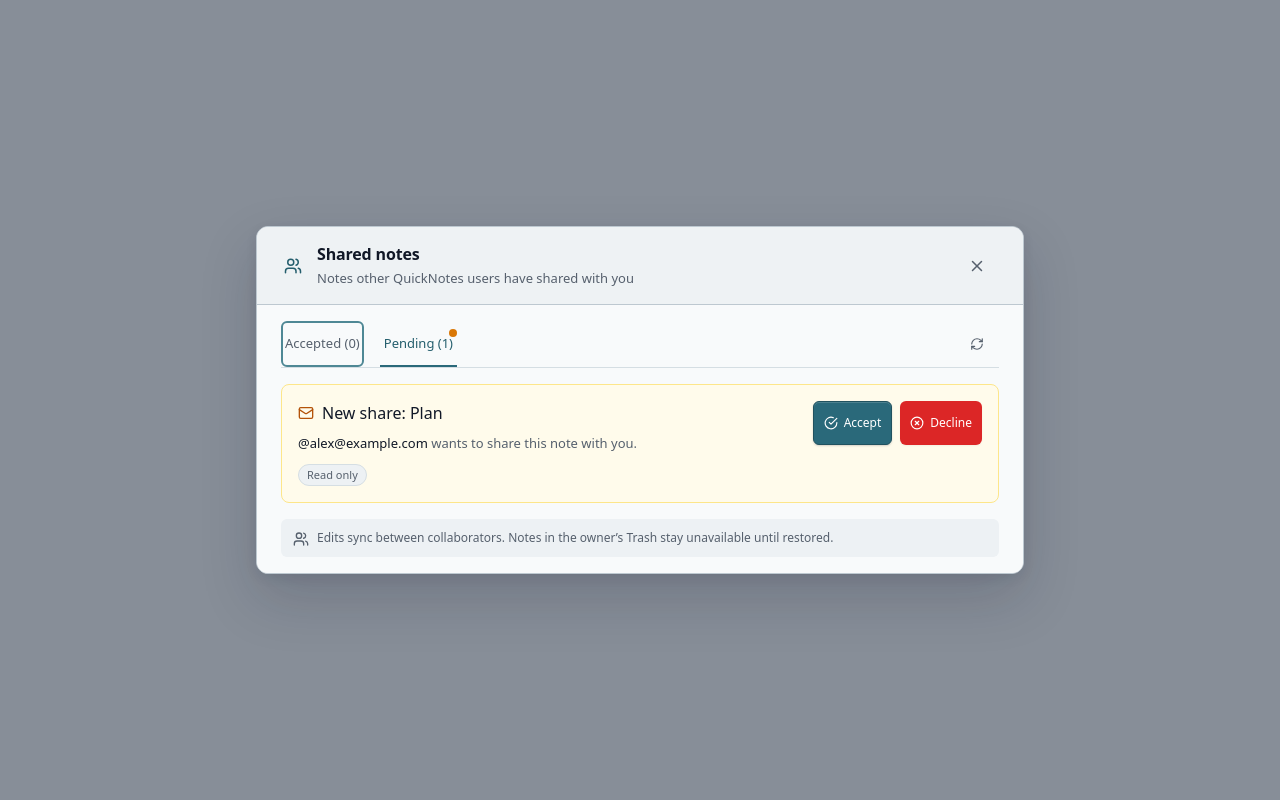
Test: shared notes › keeps the decline confirmation open when the server rejects it
Click the tab "Pending (1)": click(418, 344) [380,321,457,367]
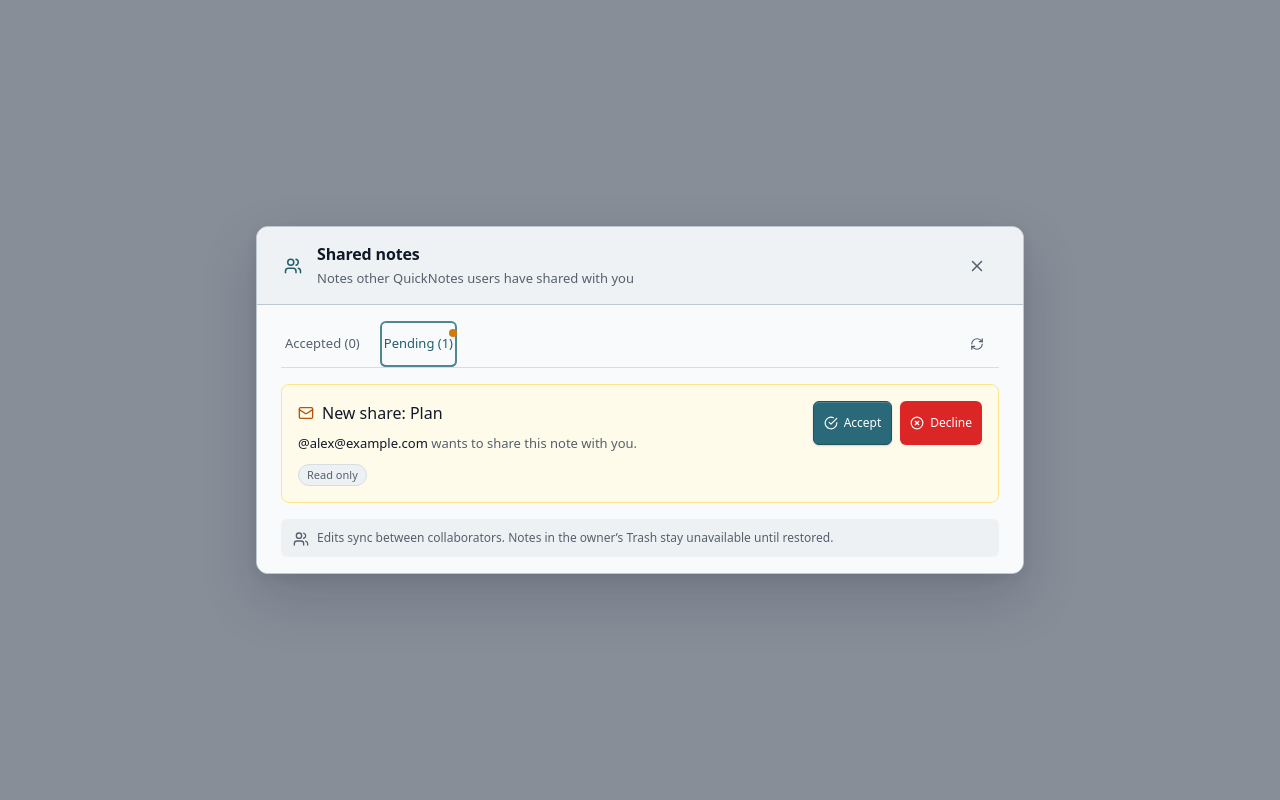
Click the button "Decline": click(941, 423) [900,401,982,445]
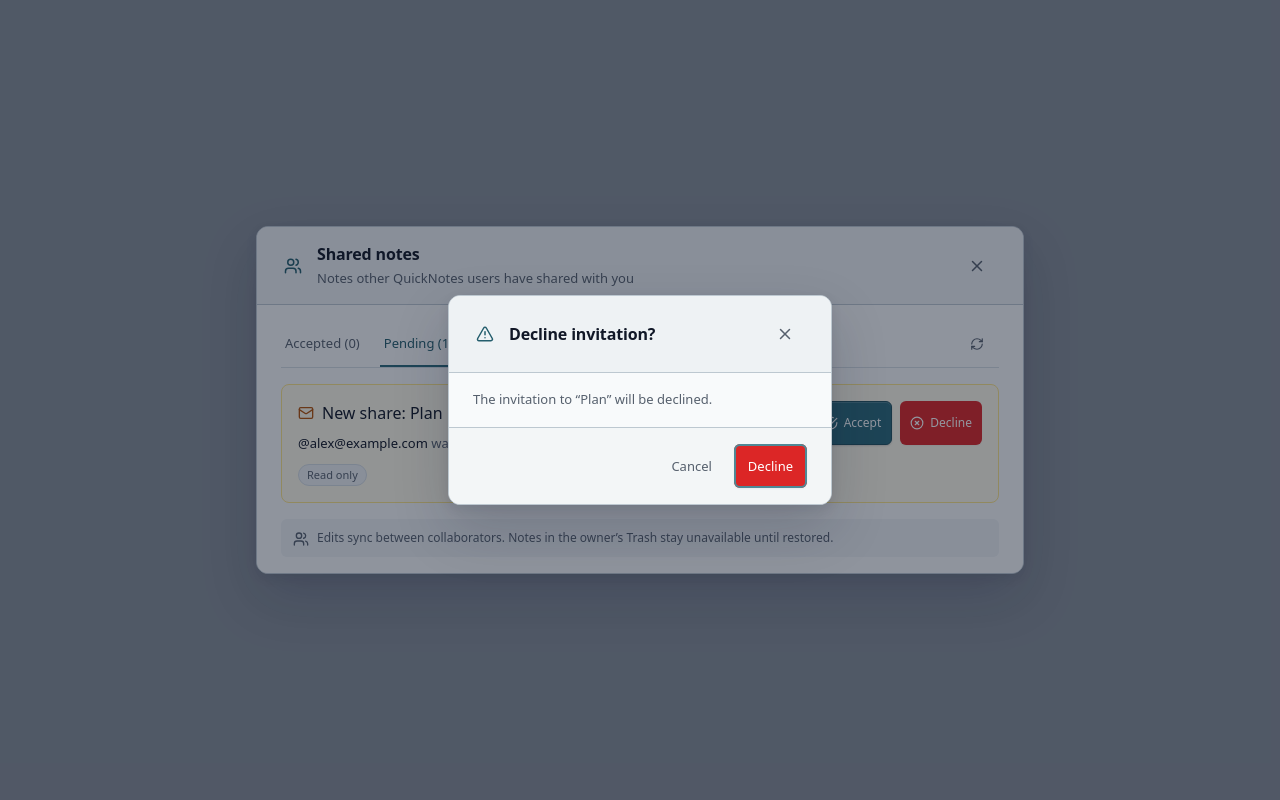
Click the button "Decline": click(770, 466) [734,444,807,488]
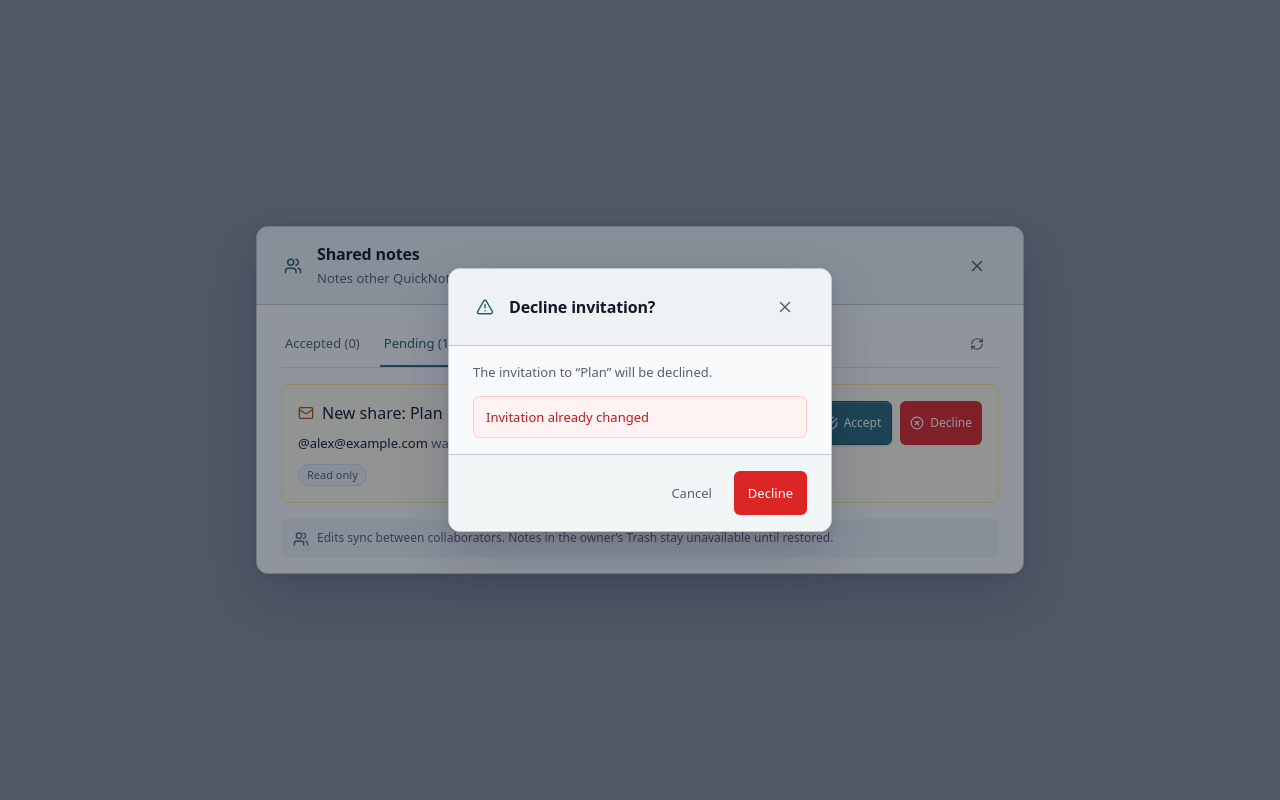
Expected: the message reads "Invitation already changed", [486,408,649,426]
